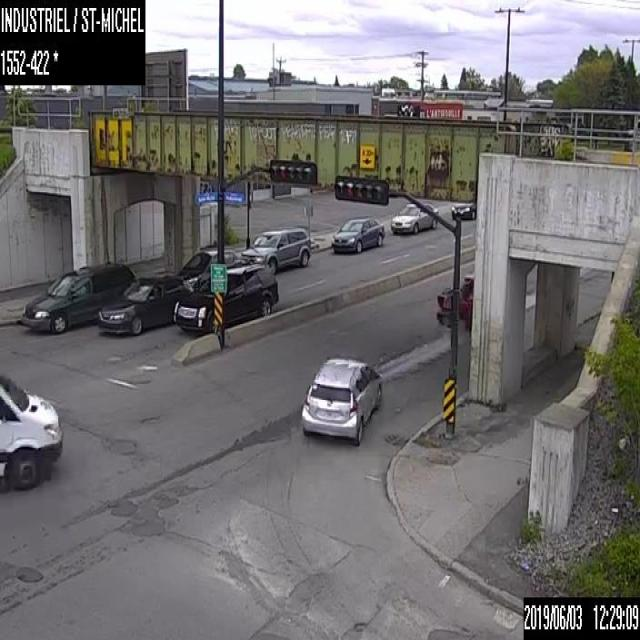vehicle: (19, 260, 137, 335), (300, 356, 382, 444), (172, 265, 278, 331), (0, 372, 60, 487), (96, 274, 192, 333), (239, 229, 310, 272), (176, 246, 240, 281), (332, 215, 384, 252), (389, 201, 436, 235), (458, 271, 472, 320), (450, 200, 474, 219)
